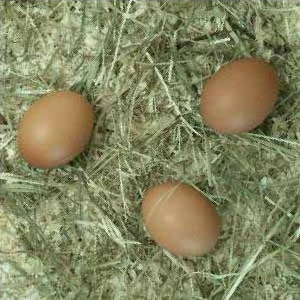egg: (201, 57, 279, 134), (141, 182, 220, 258), (20, 92, 95, 168)
